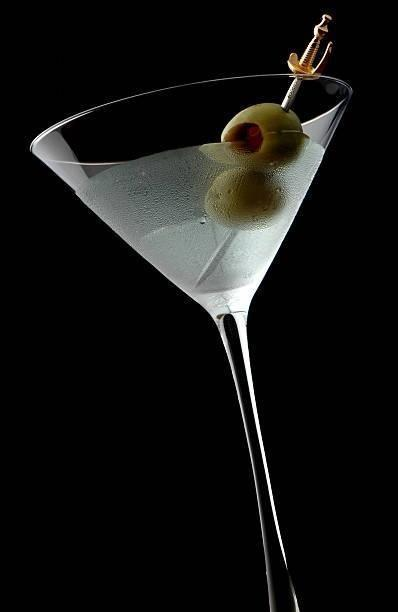glass-wine: (23, 75, 379, 611)
